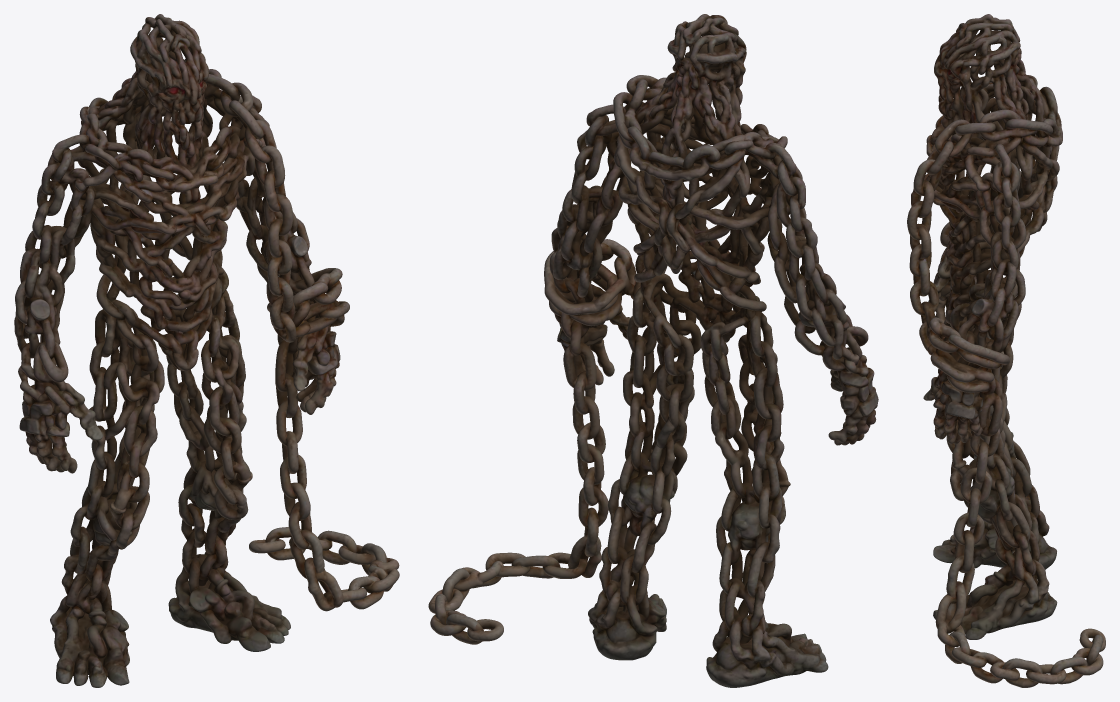
Rendered from 57-las-cadenas-del-diablo-en-la-estrella-optimized.glb.
The picture shows the model from 3 angles, left to right: view 1: azimuth 30°, elevation 25°; view 2: azimuth 150°, elevation 25°; view 3: azimuth 270°, elevation 25°; orthographic projection. The views are drawn at different scales.
Visible parts, largest first — view 1: tripo_node_d08b26d0-7ec5-499d-8ad8-3bfd02c5682d; view 2: tripo_node_d08b26d0-7ec5-499d-8ad8-3bfd02c5682d; view 3: tripo_node_d08b26d0-7ec5-499d-8ad8-3bfd02c5682d.
Part boxes in pixels (<box>): tripo_node_d08b26d0-7ec5-499d-8ad8-3bfd02c5682d: <box>14,14,399,687</box>; tripo_node_d08b26d0-7ec5-499d-8ad8-3bfd02c5682d: <box>428,14,878,687</box>; tripo_node_d08b26d0-7ec5-499d-8ad8-3bfd02c5682d: <box>907,14,1105,687</box>.
Size of the model in its own units: 0.6529 by 1 by 0.314.
1 material, 1 textured.
